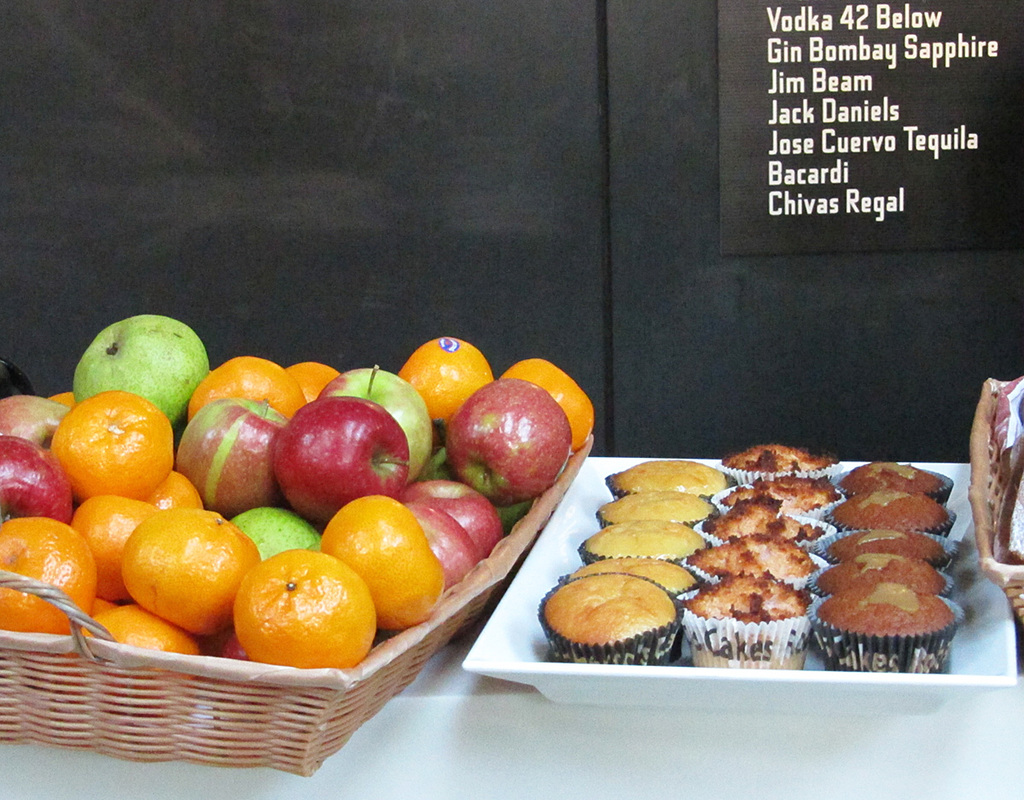Apple: (261, 403, 409, 521), (443, 376, 571, 504), (169, 400, 289, 521), (317, 362, 434, 480), (430, 451, 549, 524), (401, 475, 506, 552), (399, 497, 482, 585), (0, 429, 74, 523), (0, 389, 76, 449)
